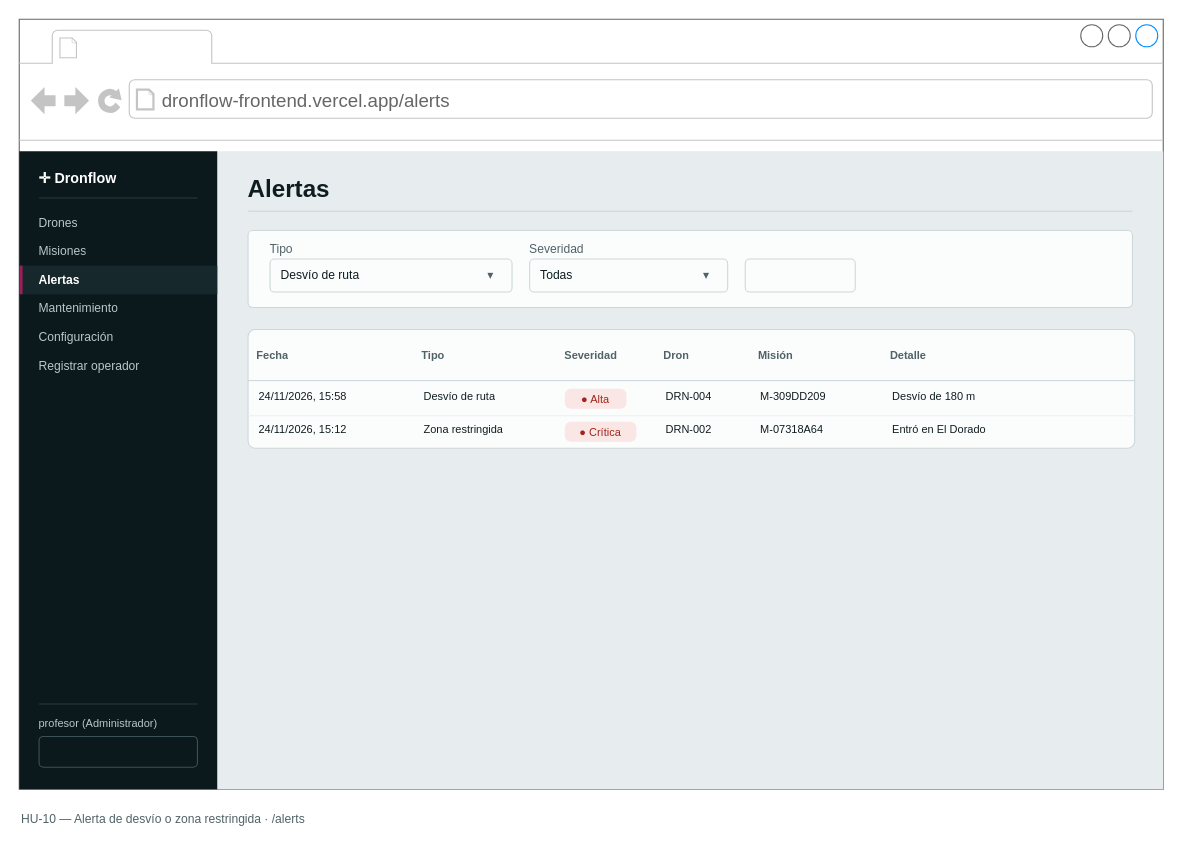
The diagram is 1183 pixels wide and 868 high, and some of its shapes have lost their labels. The shapes that lost their labels are listed below. From the top down, each one's centre as x and y in pixels, then its label:
pixel 799 275: Actualizar
pixel 117 751: Cerrar sesión
